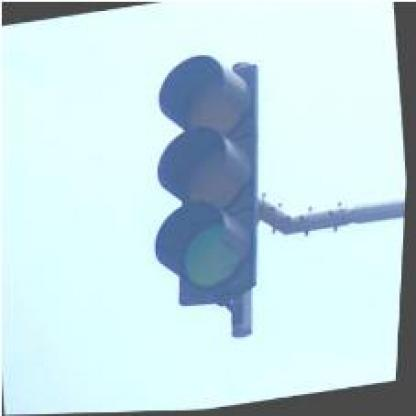green: (128, 46, 286, 313)
